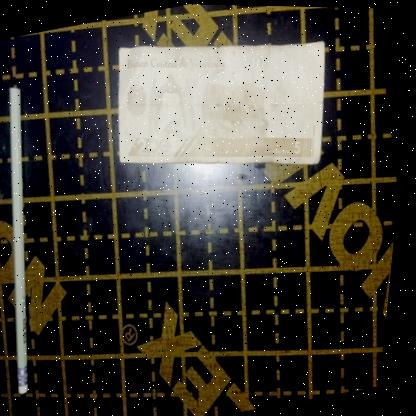vef_back: (96, 4, 352, 203)
